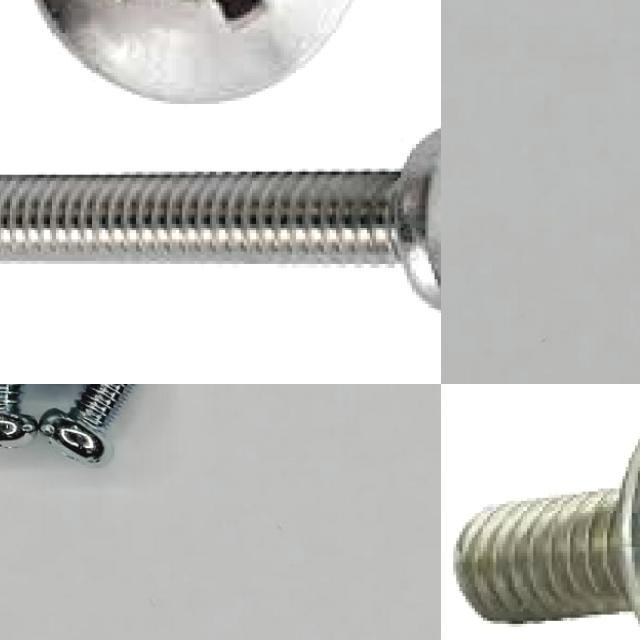Screw: (0, 135, 441, 310), (453, 446, 640, 627), (35, 0, 347, 104), (38, 384, 134, 466), (0, 384, 37, 449)
